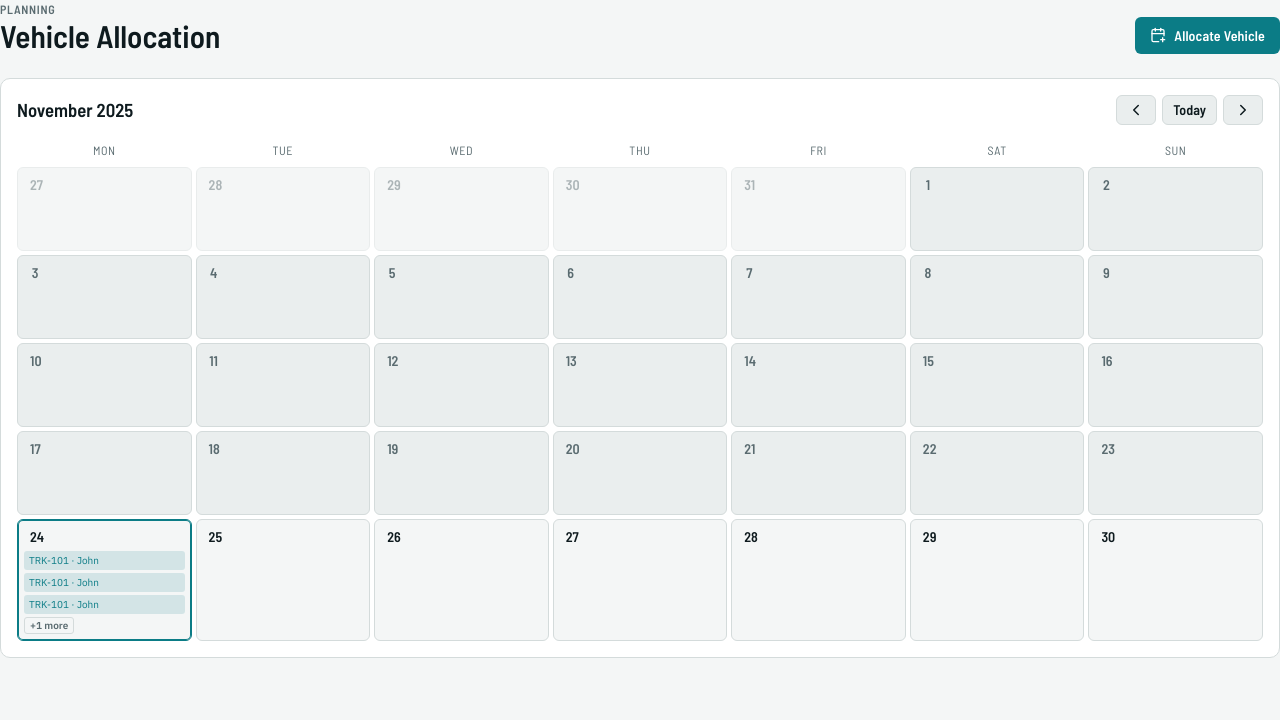
Scenario: AllocationPage › adds a new allocation for the day from the day view
The width and height of the screenshot is (1280, 720).
Check: the button "Allocate Vehicle" is shown, box [1135,17,1279,54]
What coordinates should you click on to do the following:
click the button "+1 more"
I would click on:
 (49, 625)
Its box is [24,617,74,634].
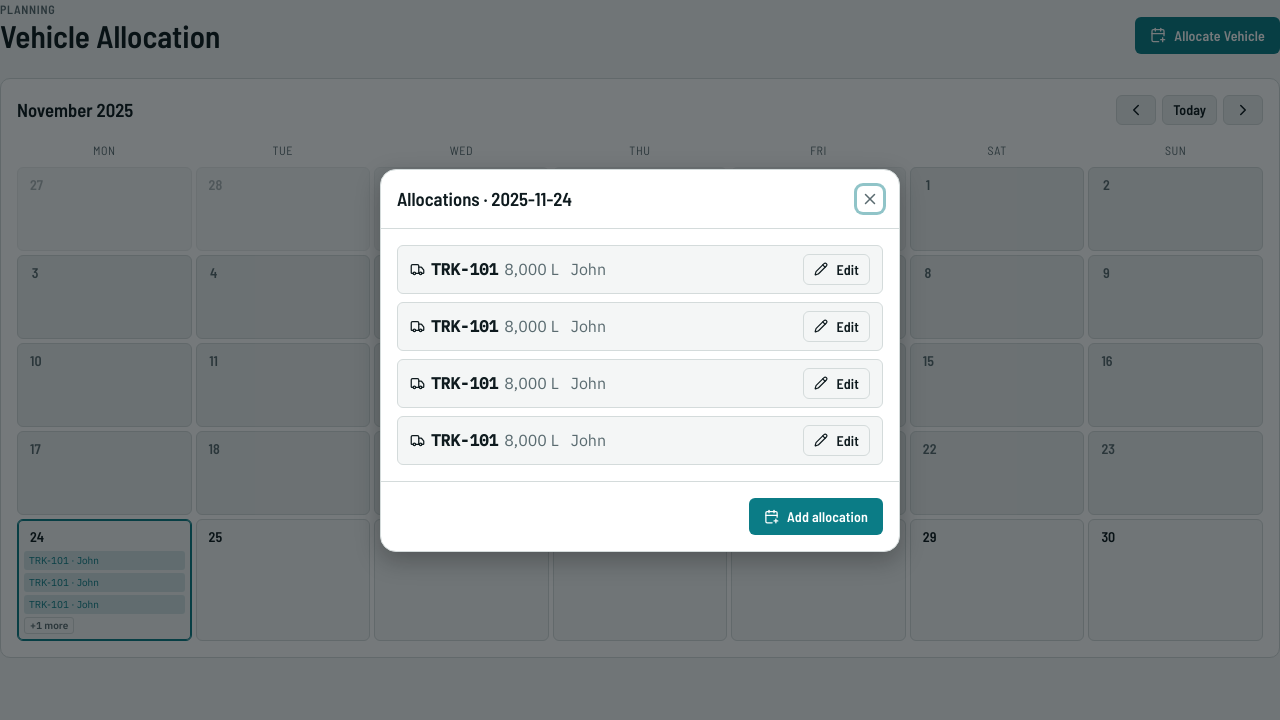
What coordinates should you click on to do the following:
click the button "Add allocation"
I would click on:
 (816, 516)
Its box is [749,498,883,534].
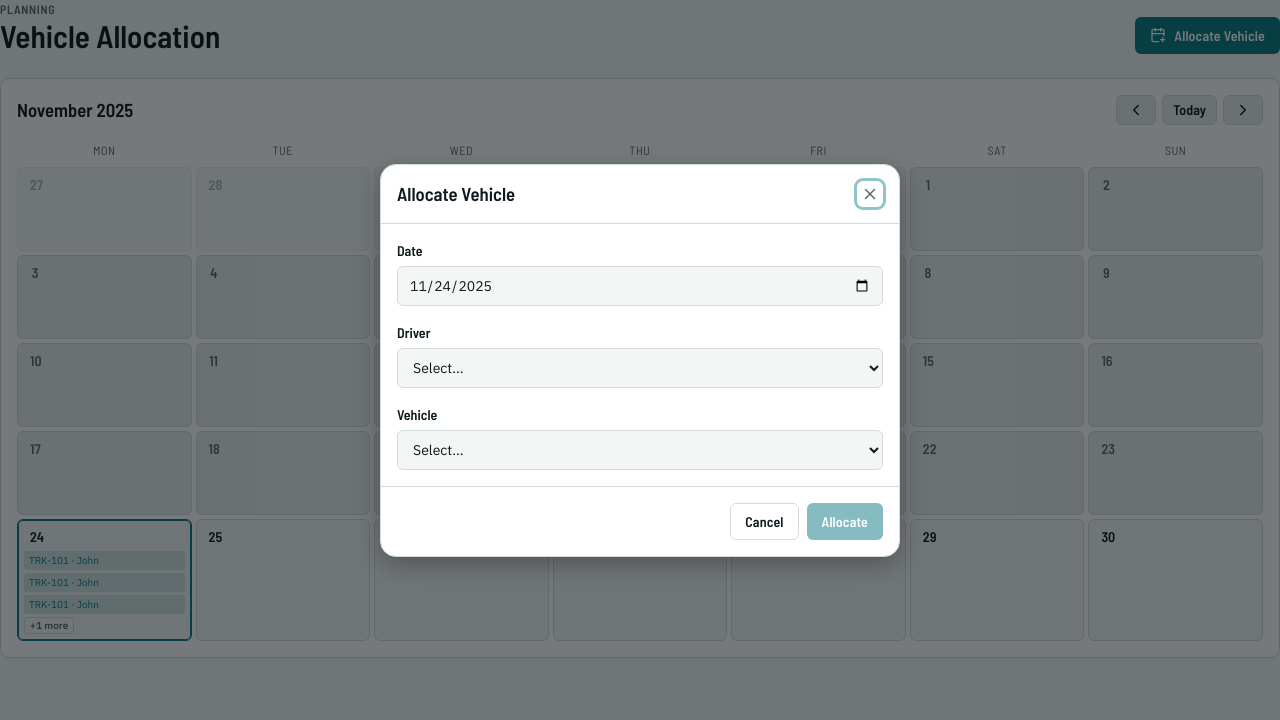
Check: the dialog "Allocate Vehicle" is shown, box [380,164,900,556]
